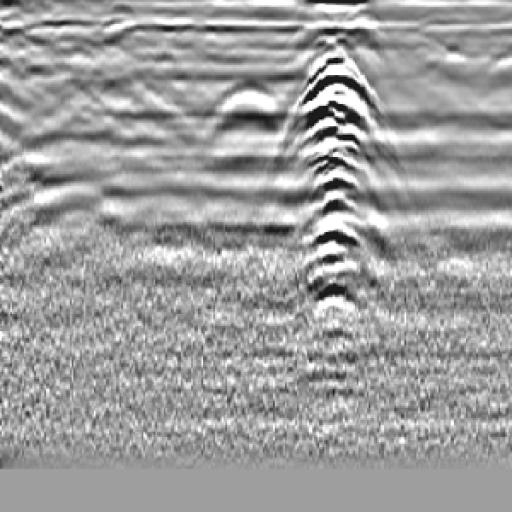metalic: (281, 26, 405, 377)
nonmetalic: (171, 50, 317, 192)
